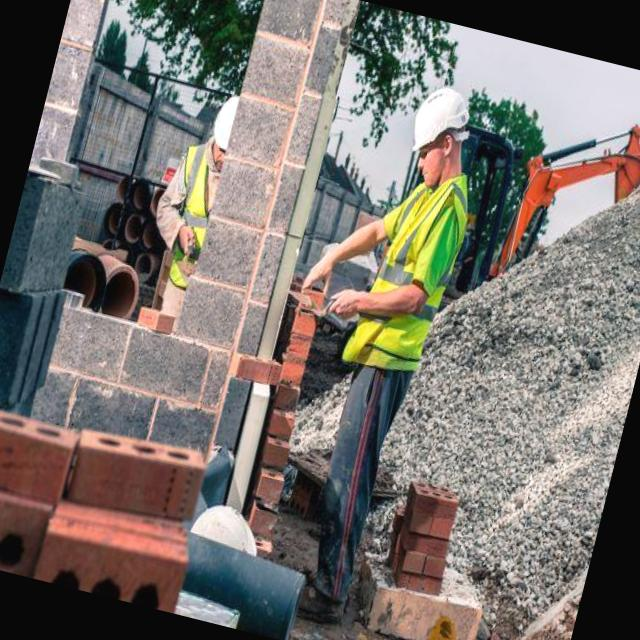helmet: (399, 73, 484, 173), (199, 86, 240, 162)
no-goggles: (414, 124, 449, 177)
vest: (354, 168, 470, 395), (144, 142, 226, 294)
